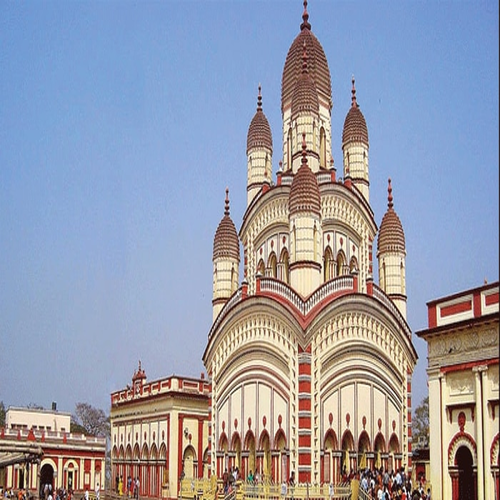Temple: (195, 11, 428, 493)
